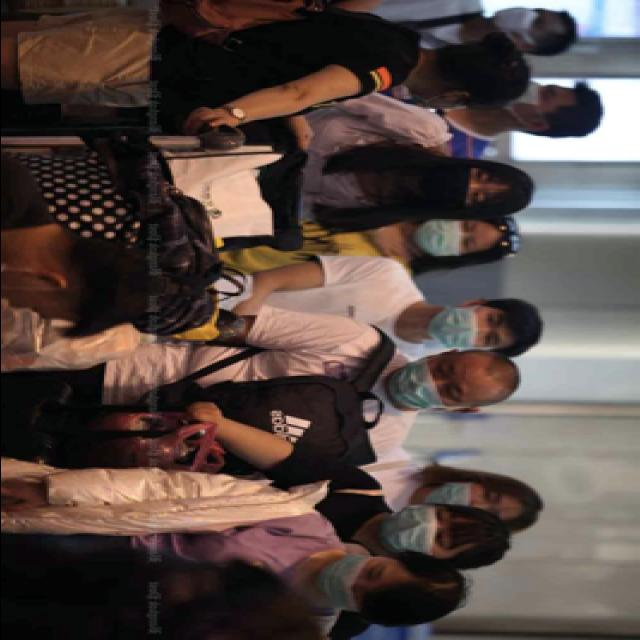mask_weared_incorrect: (420, 479, 508, 526), (5, 274, 74, 324)
with_mask: (383, 358, 468, 414), (314, 554, 393, 614), (376, 504, 456, 558), (410, 164, 494, 214), (426, 306, 508, 354), (412, 220, 480, 258), (496, 82, 560, 110), (494, 8, 549, 38)
